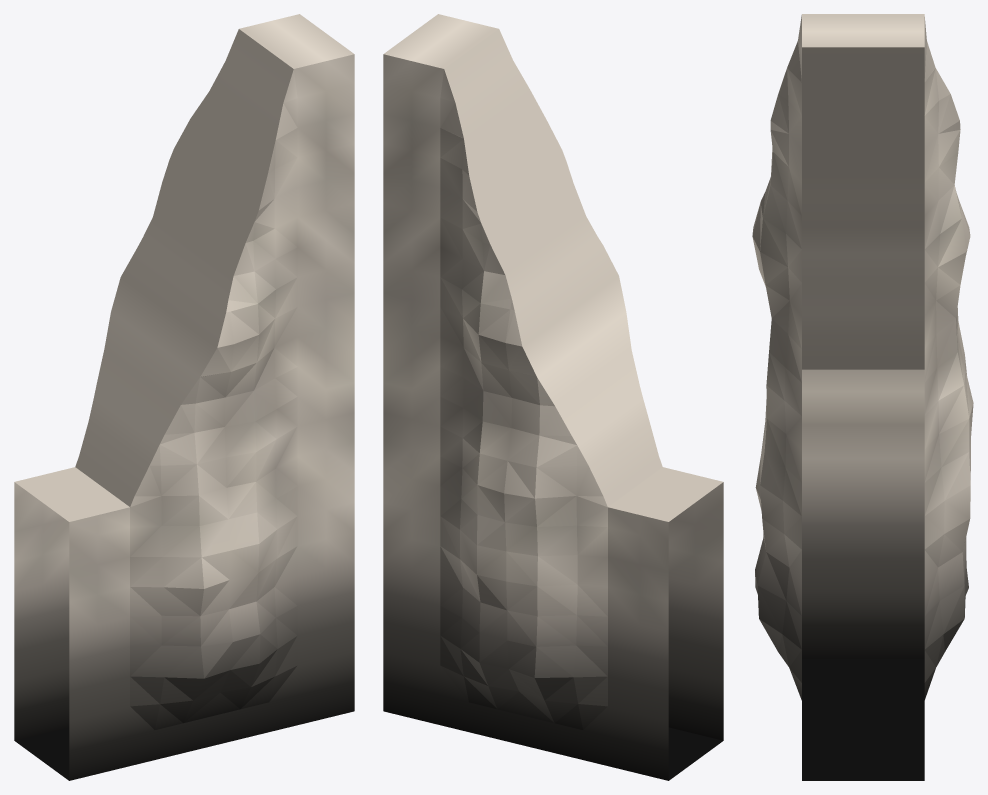
The model's file is SM_VKI_Wall_Cave_Rake_150_L.fbx.
The picture shows the model from 3 angles, left to right: view 1: azimuth 30°, elevation 25°; view 2: azimuth 150°, elevation 25°; view 3: azimuth 270°, elevation 25°; orthographic projection. The views are drawn at different scales.
Parts seen in each view (by area): view 1: SM_VKI_Wall_Cave_Rake_150_L.001; view 2: SM_VKI_Wall_Cave_Rake_150_L.001; view 3: SM_VKI_Wall_Cave_Rake_150_L.001.
Boxes of the visible parts, x1,y1,x2,y2 form: SM_VKI_Wall_Cave_Rake_150_L.001: (14, 14, 354, 780); SM_VKI_Wall_Cave_Rake_150_L.001: (383, 14, 723, 780); SM_VKI_Wall_Cave_Rake_150_L.001: (752, 14, 973, 780).
Size of the model in its own units: 1.5 by 3.3 by 0.9011.
